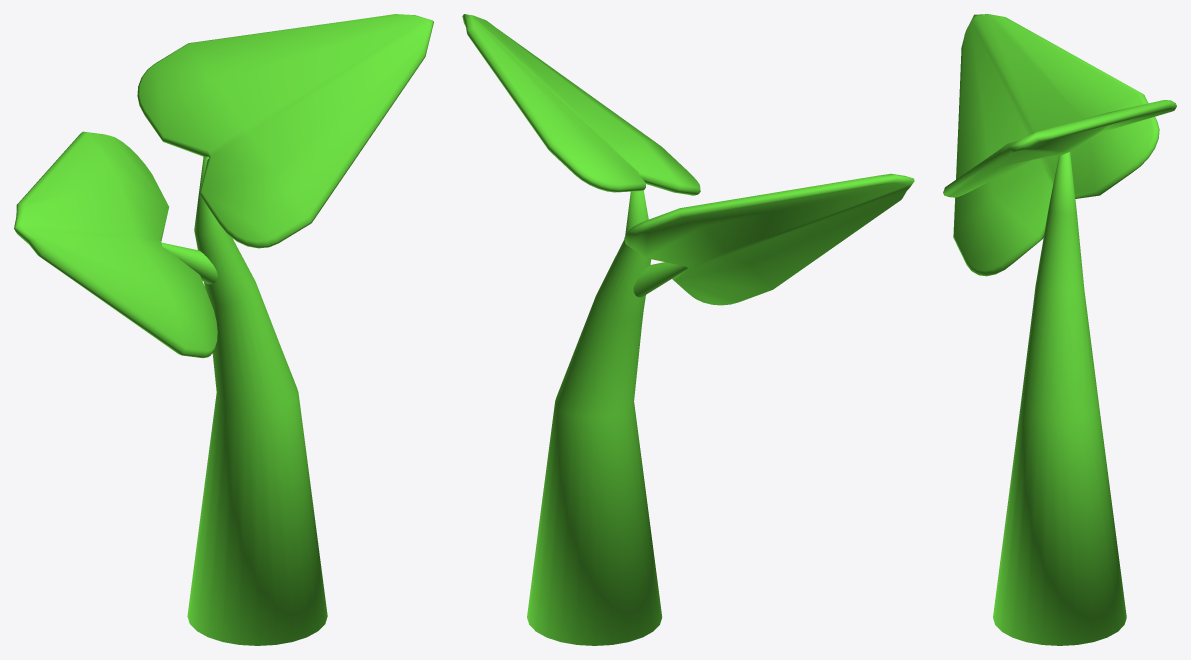
The model's file is gensutaSprout.fbx.
3 views of the same model, side by side, from view 1: azimuth 30°, elevation 25°; view 2: azimuth 150°, elevation 25°; view 3: azimuth 270°, elevation 25° (orthographic). The views are drawn at different scales.
Parts seen in each view (by area): view 1: Gensuta Sprout; view 2: Gensuta Sprout; view 3: Gensuta Sprout.
Boxes of the visible parts, bbox=[...] form: Gensuta Sprout: bbox=[14, 14, 433, 645]; Gensuta Sprout: bbox=[462, 14, 914, 645]; Gensuta Sprout: bbox=[943, 14, 1176, 645].
Bounding box in the file's own units: 55.76 × 26.62 × 69.11.
